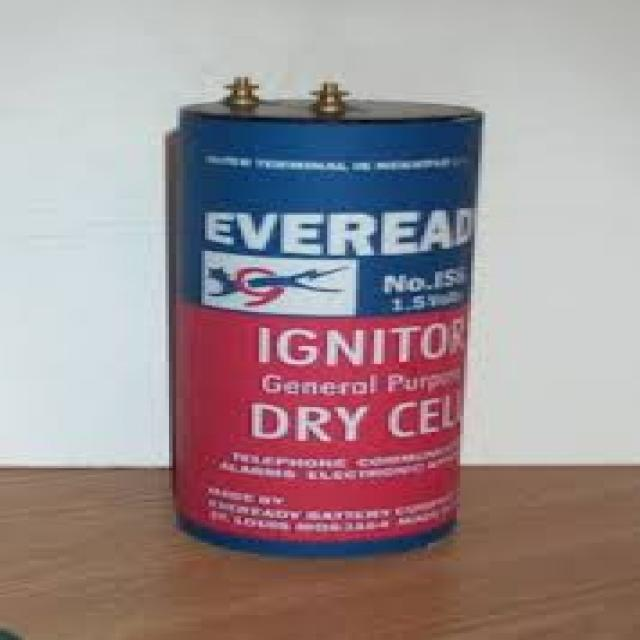battery: (178, 74, 486, 554)
